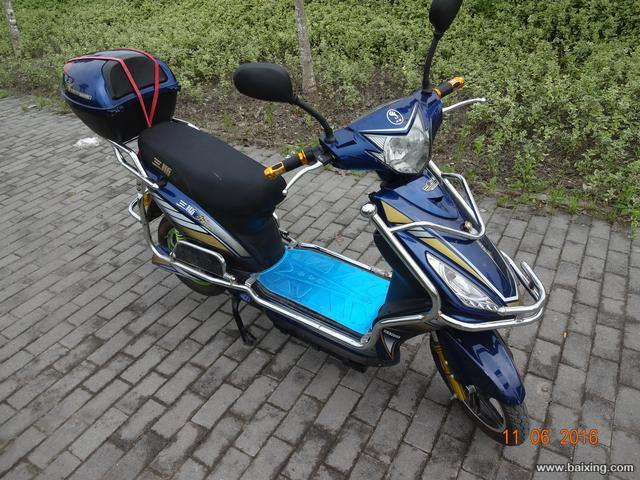电动车: (53, 1, 555, 449)
